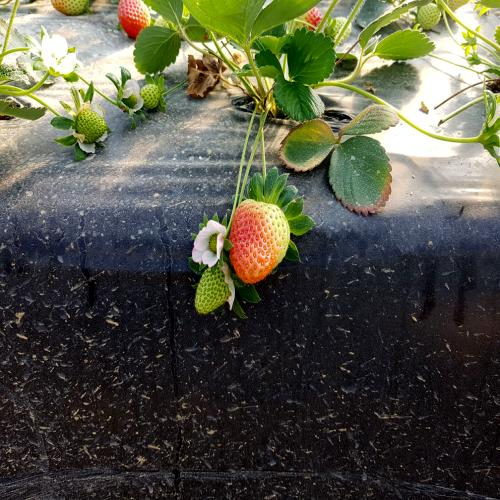partially-ripe: (229, 189, 294, 294)
